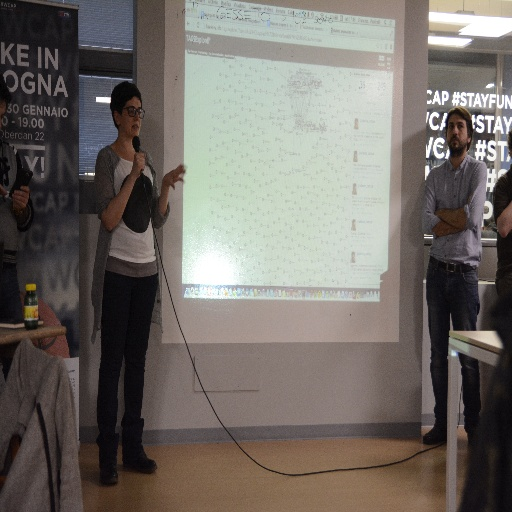hand: (160, 161, 187, 188), (10, 182, 31, 210), (132, 148, 148, 173), (0, 183, 11, 199)
